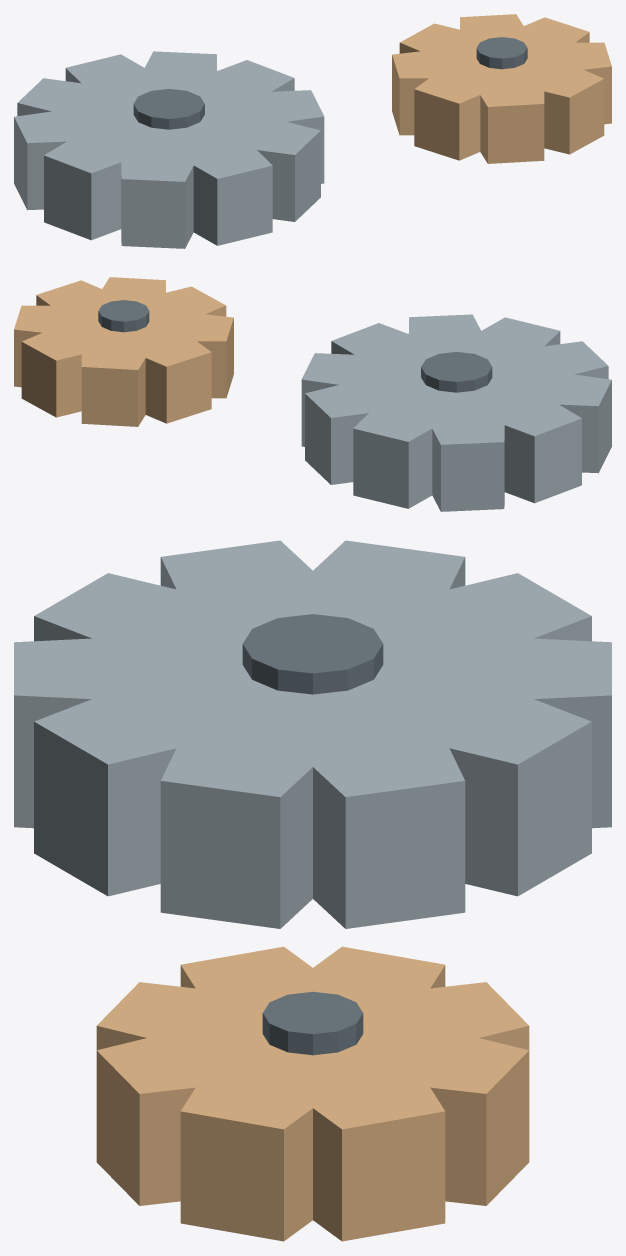
File: FTF_Product_GearSet.glb
The picture shows the model from 3 angles, top to bottom: view 1: azimuth 30°, elevation 25°; view 2: azimuth 150°, elevation 25°; view 3: azimuth 270°, elevation 25°; orthographic projection. The views are drawn at different scales.
Visible parts, largest first — view 1: LargeGear, SmallGear, LargeGearHub, SmallGearHub; view 2: LargeGear, SmallGear, LargeGearHub, SmallGearHub; view 3: LargeGear, SmallGear, LargeGearHub, SmallGearHub.
Part boxes in pixels (x1,y1,x2,y2): LargeGear: (14,51,324,248); SmallGear: (392,14,611,163); LargeGearHub: (133,89,204,129); SmallGearHub: (476,37,527,69); LargeGear: (301,314,611,511); SmallGear: (14,277,233,426); LargeGearHub: (421,352,492,392); SmallGearHub: (98,300,149,332); LargeGear: (14,540,611,928); SmallGear: (96,946,529,1241); LargeGearHub: (242,614,383,694); SmallGearHub: (262,991,363,1055).
Bounding box in the file's own units: 0.8775 × 0.1415 × 0.411.
